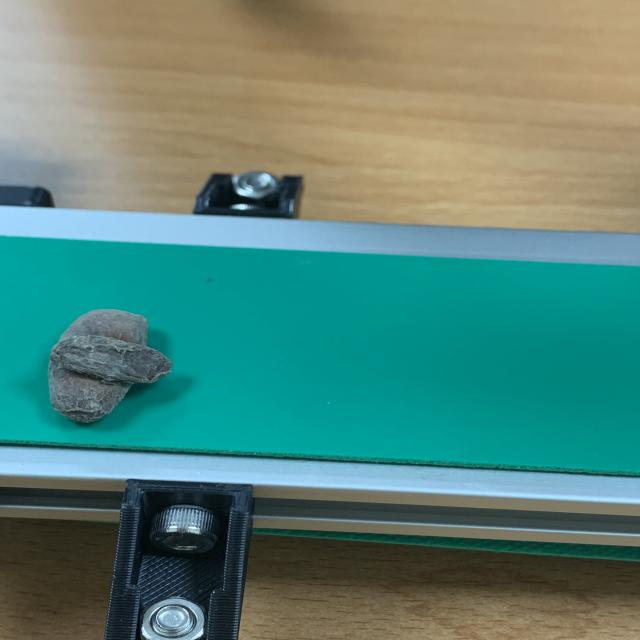Agglomerated_cocoabeans: (0, 284, 238, 458)
